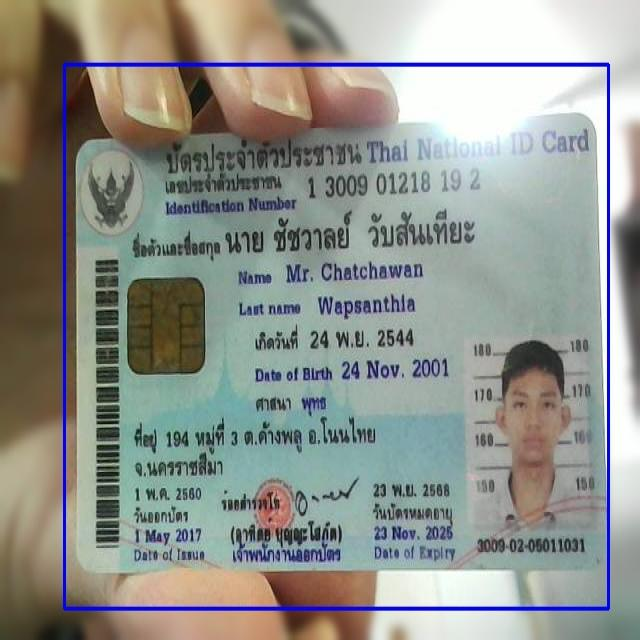Address_th: (130, 412, 382, 485)
Date_of_Birth: (338, 355, 453, 386)
Date_of_Expiry: (369, 522, 460, 544)
Date_of_Issue: (129, 524, 208, 546)
First_Name: (283, 258, 426, 284)
ID_Number: (306, 166, 482, 201)
Image: (466, 336, 594, 536)
Last_Name: (314, 290, 421, 324)
Thai_Name: (224, 209, 477, 258)
